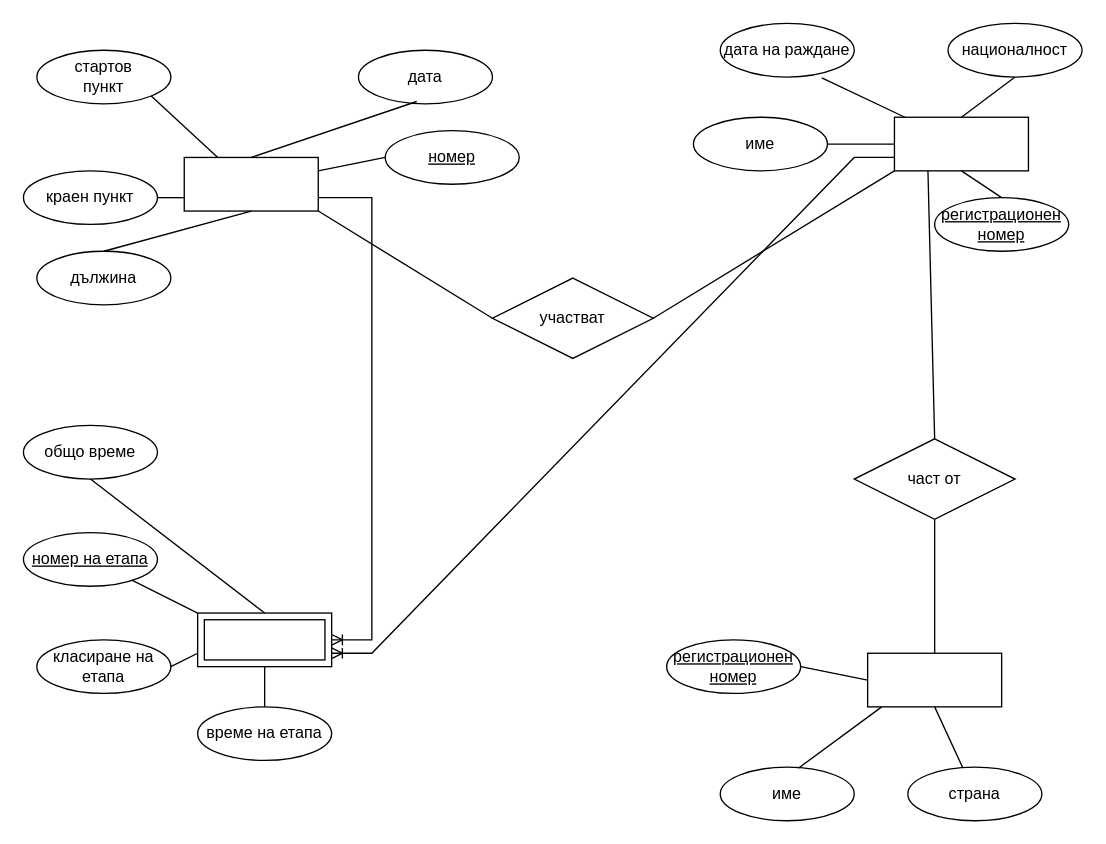
This 1106x844 diagram has some shape labels left out. Each missing label, with the box of its shape:
Етапи: (183, 156, 318, 211)
Колоездачи: (893, 116, 1028, 171)
Отбор: (866, 652, 1002, 707)
Резултати: (196, 612, 332, 667)
